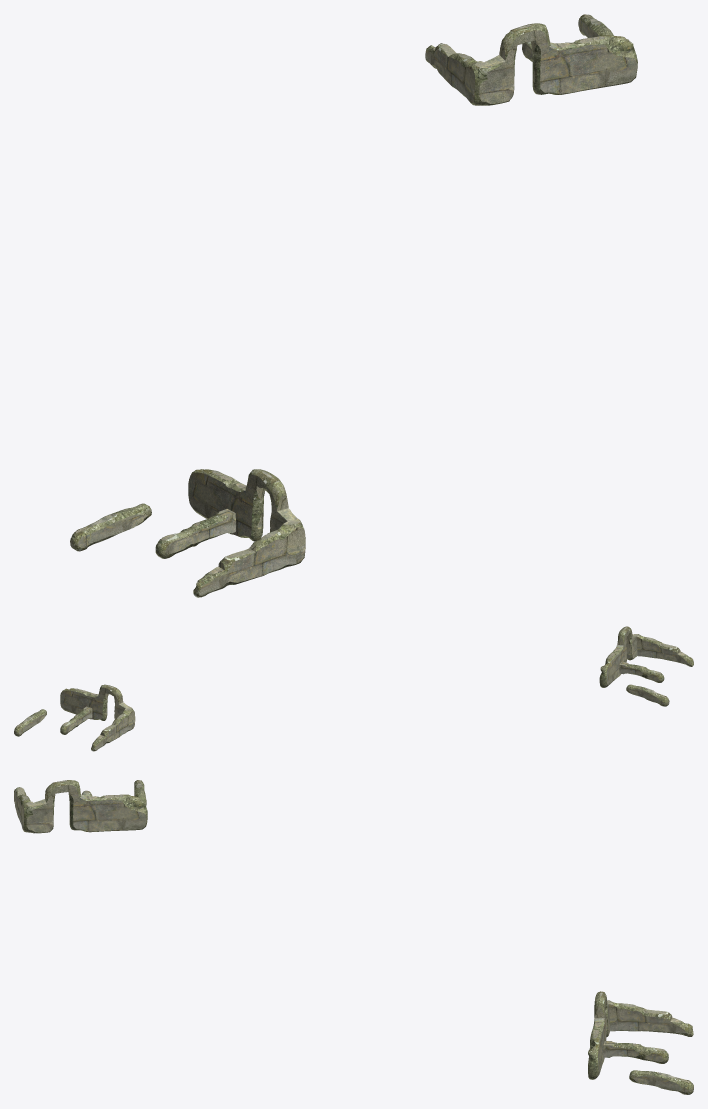
The model's file is SM_Chateaux_01_10.fbx.
3 views of the same model, one above another, from view 1: azimuth 30°, elevation 25°; view 2: azimuth 150°, elevation 25°; view 3: azimuth 270°, elevation 25° (orthographic). The views are drawn at different scales.
Visible parts, largest first — view 1: SM_Chateaux_01_10; view 2: SM_Chateaux_01_10; view 3: SM_Chateaux_01_10.
Boxes of the visible parts, bbox=[...] form: SM_Chateaux_01_10: bbox=[70, 14, 637, 597]; SM_Chateaux_01_10: bbox=[14, 626, 693, 751]; SM_Chateaux_01_10: bbox=[14, 780, 693, 1094].
Bounding box in the file's own units: 8062 × 775 × 7438.
